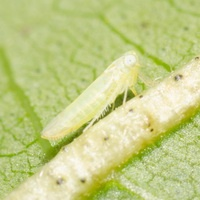insect: (41, 51, 138, 145)
